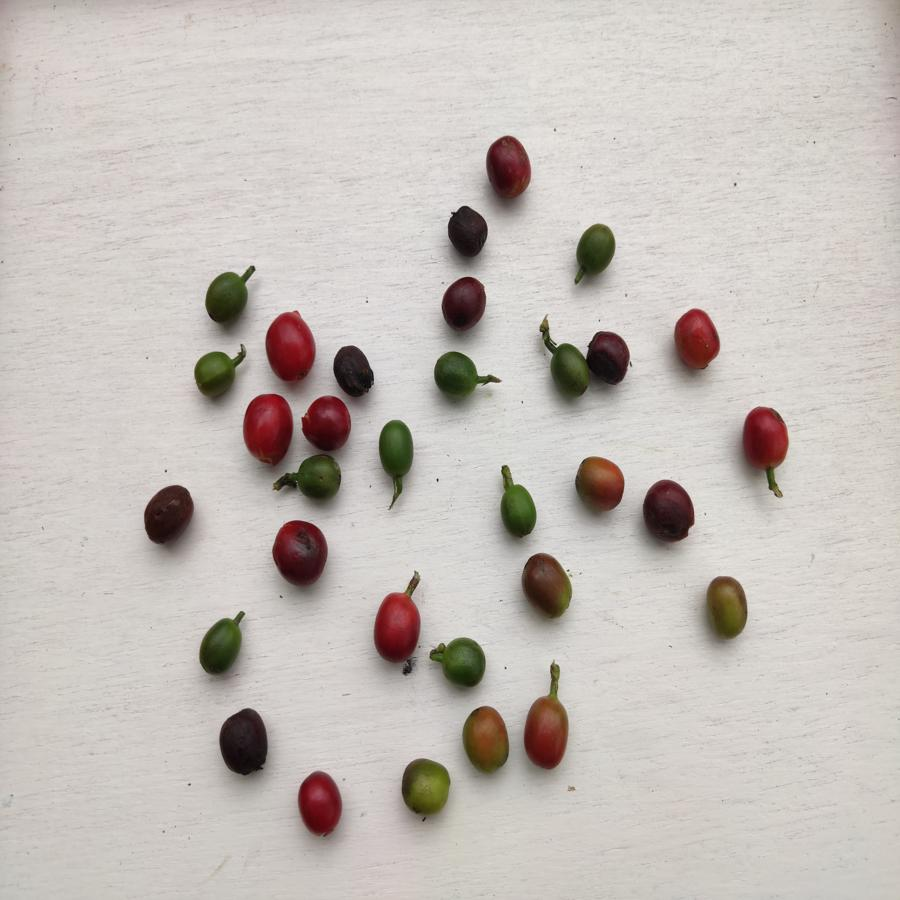Inmaduro: (195, 618, 247, 679), (375, 419, 422, 479), (429, 351, 485, 400), (439, 632, 487, 688), (497, 480, 542, 538), (190, 350, 240, 402), (199, 273, 248, 325), (550, 341, 590, 403), (575, 222, 617, 278), (295, 454, 344, 498)
Maduro: (261, 312, 317, 383), (242, 392, 292, 464), (372, 592, 421, 665), (295, 766, 345, 837), (742, 403, 791, 474), (673, 307, 724, 374), (301, 396, 351, 451)
Pinton: (522, 693, 571, 769), (568, 453, 629, 513), (517, 553, 572, 618), (461, 705, 511, 775), (398, 756, 451, 819), (702, 573, 750, 640)
Sobremaduro: (271, 515, 332, 590), (137, 486, 198, 543), (217, 709, 271, 773), (643, 478, 696, 541), (486, 133, 534, 200), (586, 329, 634, 386), (447, 203, 492, 261), (329, 344, 377, 398), (441, 274, 488, 329)
